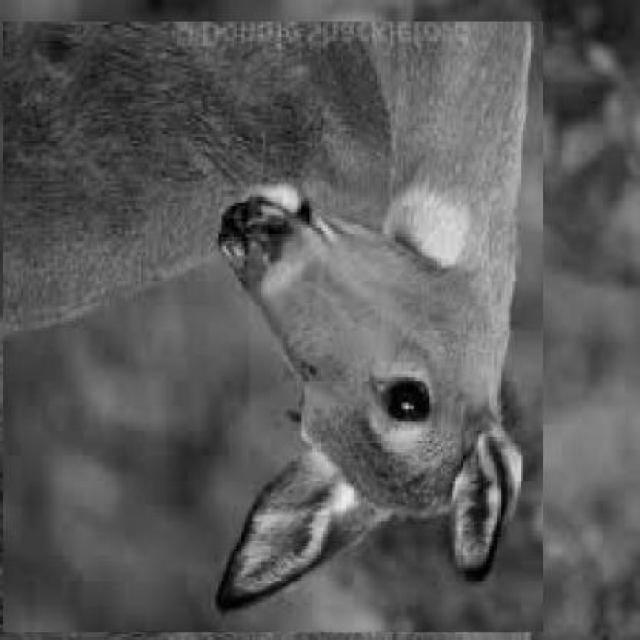Deer: (3, 21, 545, 635)
